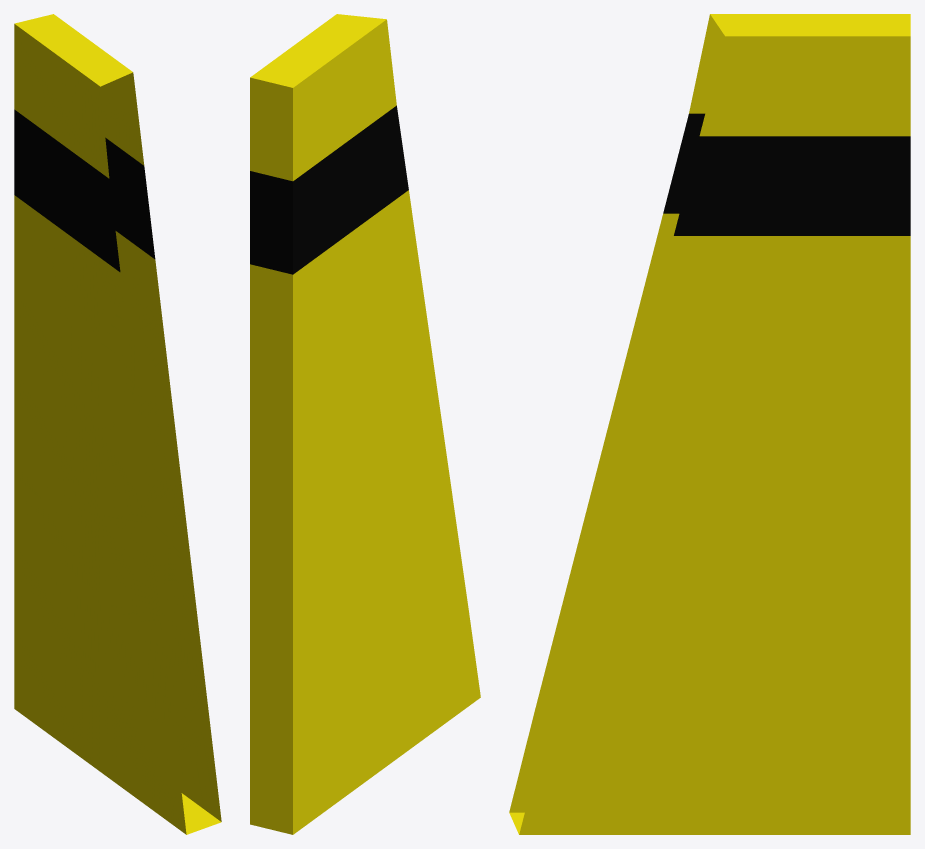
The model's file is кусок 5.fbx.
3 views of the same model, side by side, from view 1: azimuth 30°, elevation 25°; view 2: azimuth 150°, elevation 25°; view 3: azimuth 270°, elevation 25° (orthographic). The views are drawn at different scales.
Parts seen in each view (by area): view 1: Pass_PassBase_Mat_0.010, Pass_PassBase_Mat_0.006, Pass_PassBlack_Mat_0.004; view 2: Pass_PassBase_Mat_0.010, Pass_PassBlack_Mat_0.004, Pass_PassBase_Mat_0.006; view 3: Pass_PassBase_Mat_0.010, Pass_PassBase_Mat_0.006, Pass_PassBlack_Mat_0.004.
Part boxes in pixels (x1,y1,x2,y2): Pass_PassBase_Mat_0.010: [14, 14, 221, 834]; Pass_PassBase_Mat_0.006: [14, 197, 182, 510]; Pass_PassBlack_Mat_0.004: [14, 109, 155, 271]; Pass_PassBase_Mat_0.010: [250, 14, 480, 834]; Pass_PassBlack_Mat_0.004: [250, 105, 408, 274]; Pass_PassBase_Mat_0.006: [253, 266, 438, 405]; Pass_PassBase_Mat_0.010: [509, 14, 910, 834]; Pass_PassBase_Mat_0.006: [597, 236, 910, 484]; Pass_PassBlack_Mat_0.004: [663, 113, 910, 235].
Bounding box in the file's own units: 0.0666 × 1.11 × 0.5044.
